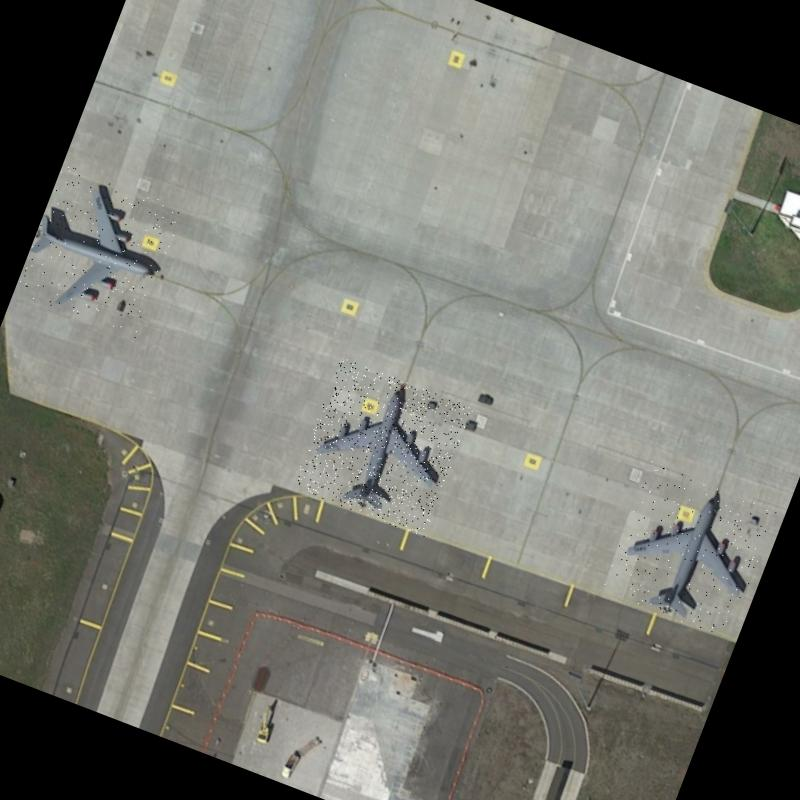A14: (291, 356, 473, 538), (601, 461, 778, 640), (15, 162, 184, 338)
